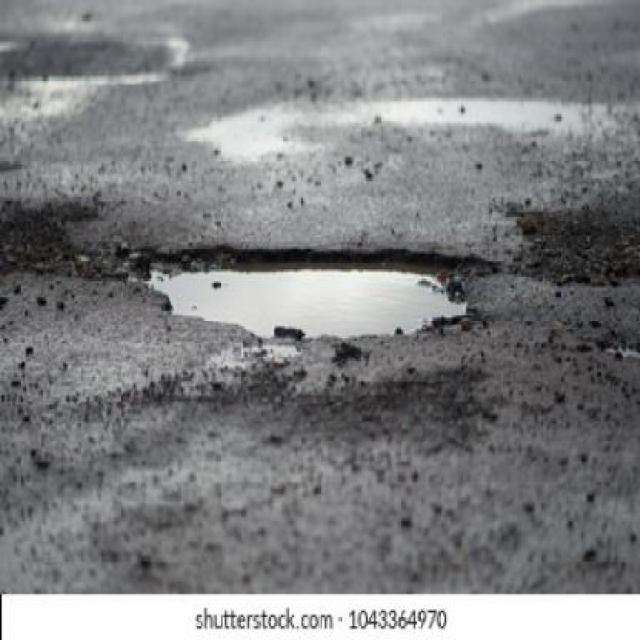Pothole: (135, 245, 499, 337)
